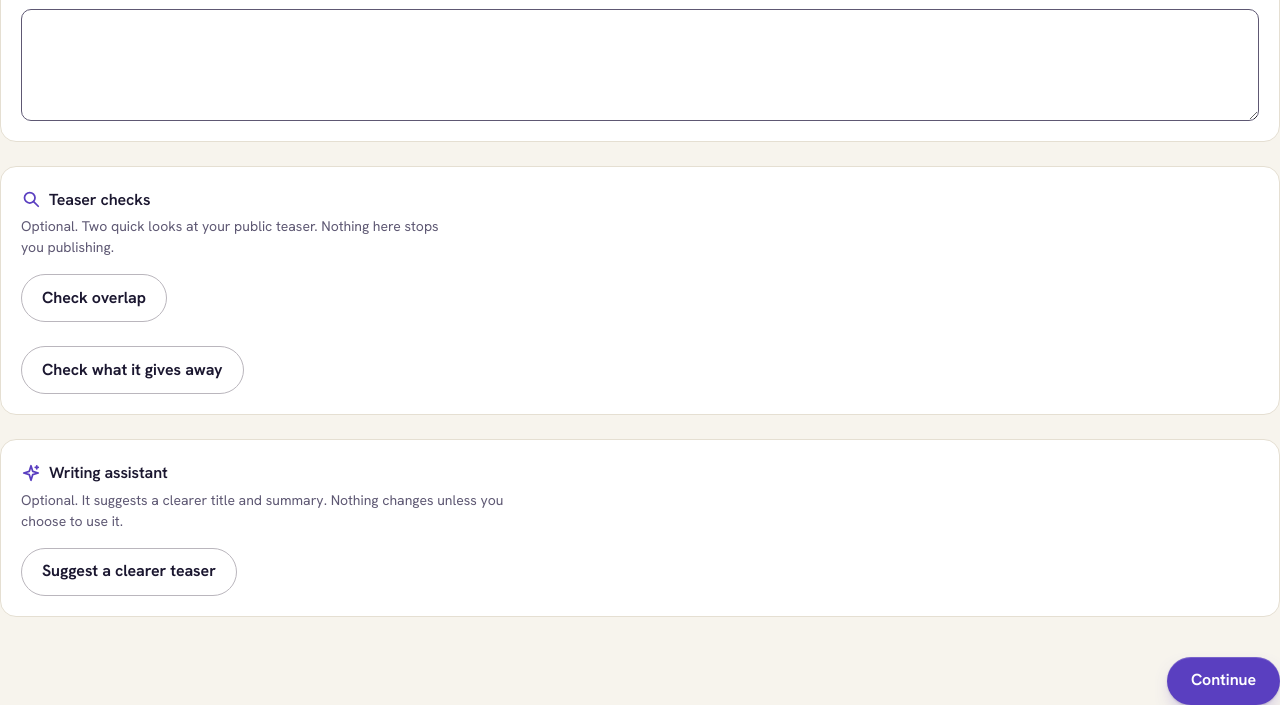
Scenario: check what it gives away › shows the model's reason, labelled AI-drafted
This screenshot has width=1280, height=705.
(page scrolled)
Click the button "Check what it gives away": (132, 370) left=21, top=346, right=244, bottom=394
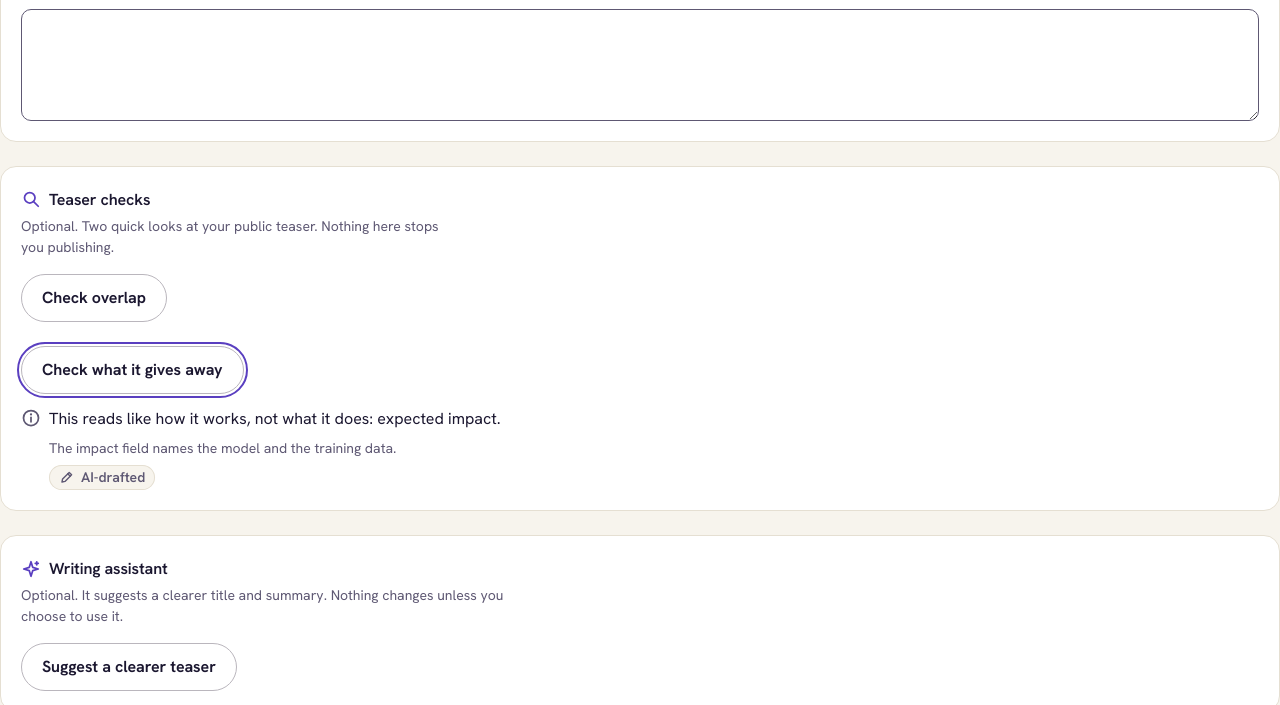
Expected: the text "This reads like how it works, not what it does: expected impact." is shown, left=21, top=406, right=501, bottom=432
